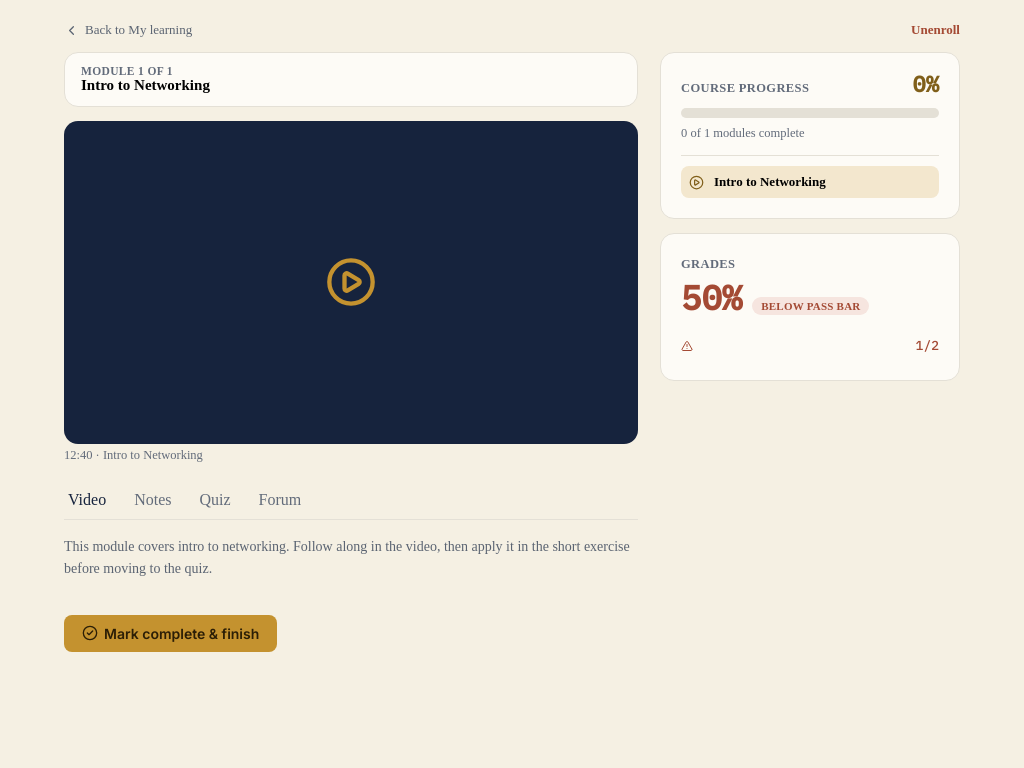
Test: LearningScreen — quiz retake (#239) › shows a read-only summary for an already-taken quiz, with a Retake quiz option
Click the tab "quiz".
click(215, 500)  # box [196,481,235,519]
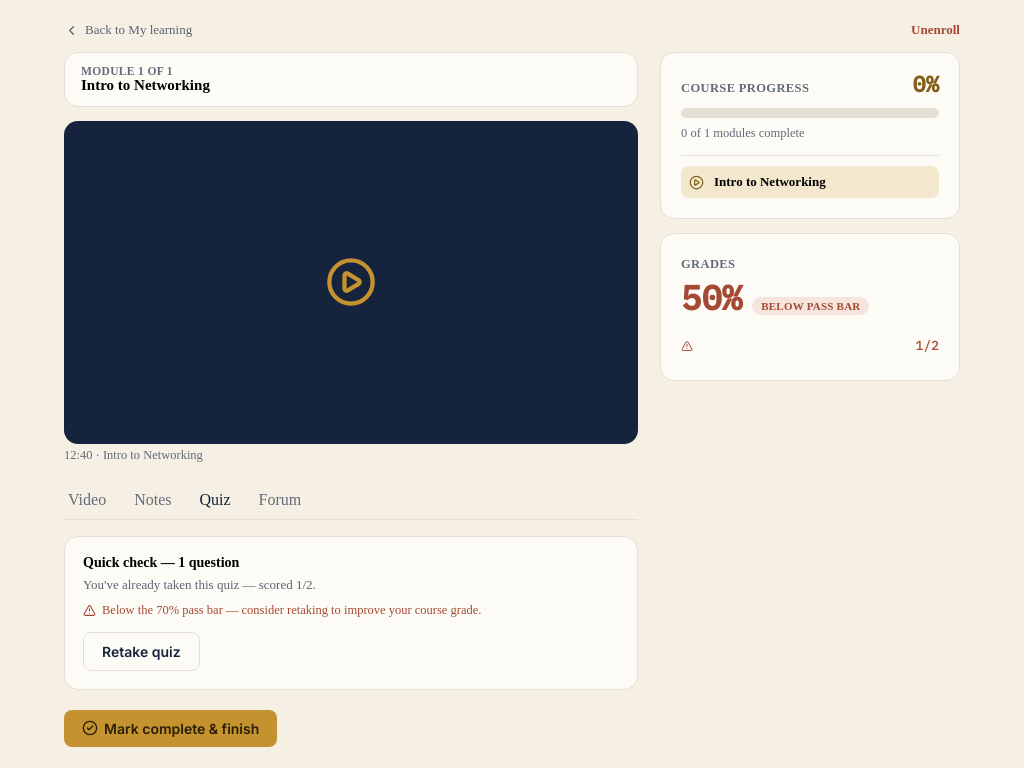
Expected: the text "You've already taken this quiz — scored 1/2." is shown, [83,577,316,592]
